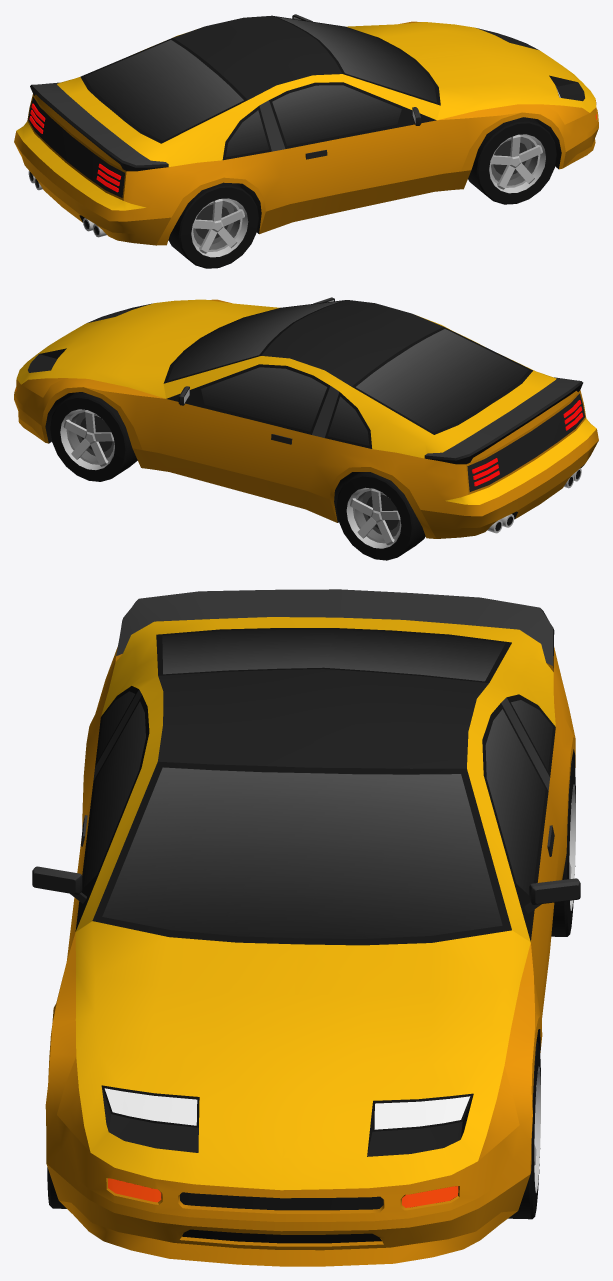
Rendered from Car_190.glb.
The picture shows the model from 3 angles, top to bottom: view 1: azimuth 30°, elevation 25°; view 2: azimuth 150°, elevation 25°; view 3: azimuth 270°, elevation 25°; orthographic projection. The views are drawn at different scales.
Parts seen in each view (by area): view 1: Car_190, wheel_1_Car_190_Wheel_2R, wheel_3_Car_190_Wheel_4R; view 2: Car_190, wheel_0_Car_190_Wheel_1L, wheel_2_Car_190_Wheel_3L; view 3: Car_190, wheel_0_Car_190_Wheel_1L, wheel_2_Car_190_Wheel_3L.
Part boxes in pixels (x1,y1,x2,y2): Car_190: (14, 14, 598, 245); wheel_1_Car_190_Wheel_2R: (468, 117, 556, 204); wheel_3_Car_190_Wheel_4R: (168, 182, 258, 268); Car_190: (14, 297, 598, 538); wheel_0_Car_190_Wheel_1L: (50, 392, 137, 481); wheel_2_Car_190_Wheel_3L: (336, 472, 425, 560); Car_190: (32, 589, 580, 1266); wheel_0_Car_190_Wheel_1L: (508, 1041, 540, 1219); wheel_2_Car_190_Wheel_3L: (551, 759, 575, 936).
Size of the model in its own units: 4.41 by 1.29 by 2.06.
Materials: 2 (2 with a texture image).
